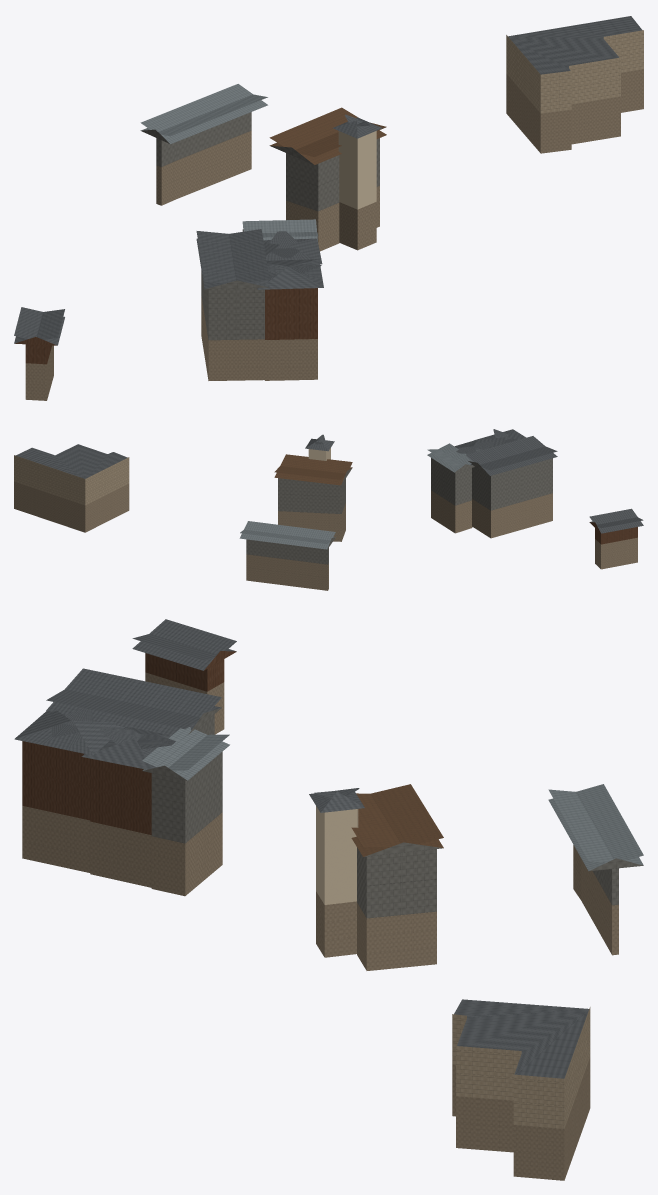
File: bld_c22_43_375.gltf
3 views of the same model, one above another, from view 1: azimuth 30°, elevation 25°; view 2: azimuth 150°, elevation 25°; view 3: azimuth 270°, elevation 25° (orthographic). The views are drawn at different scales.
Visible parts, largest first — view 1: bld_c22_43_375; view 2: bld_c22_43_375; view 3: bld_c22_43_375.
Part boxes in pixels (x1,y1,x2,y2): bld_c22_43_375: (14, 16, 643, 400); bld_c22_43_375: (14, 429, 643, 590); bld_c22_43_375: (14, 619, 643, 1180).
Size of the model in its own units: 101 by 16.6 by 55.28.
Materials: 11 (11 with a texture image).
